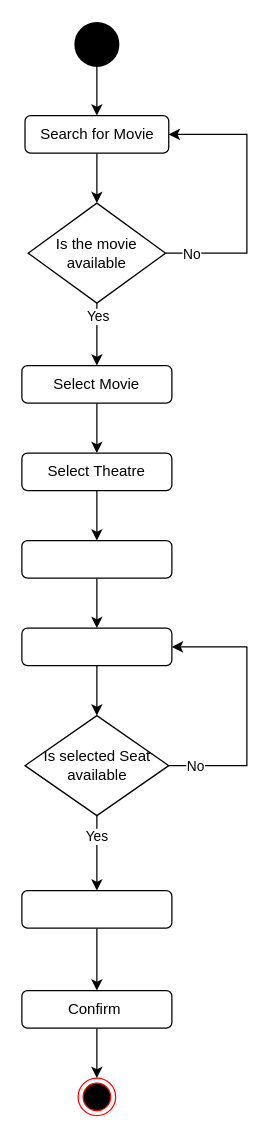
The diagram is 279 pixels wide and 1138 high, and some of its shapes have lost their labels. The centre of each missing label's shape, as x and y in pixels:
Select Seat: pixel 96 646
Select Showtime: pixel 96 558
Show ticket summary: pixel 96 908
